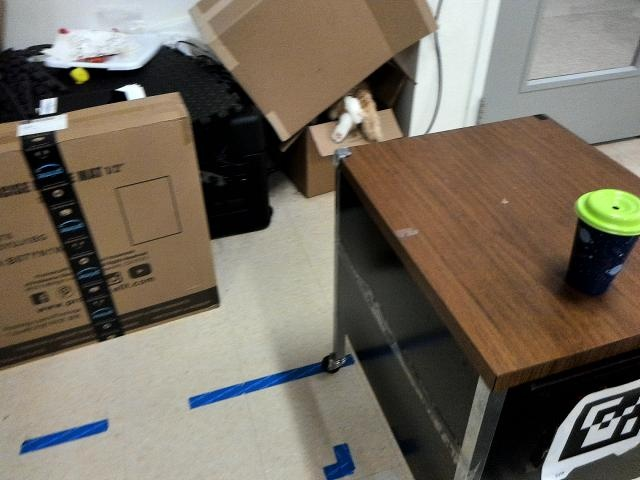useless_cup: (565, 188, 638, 298)
